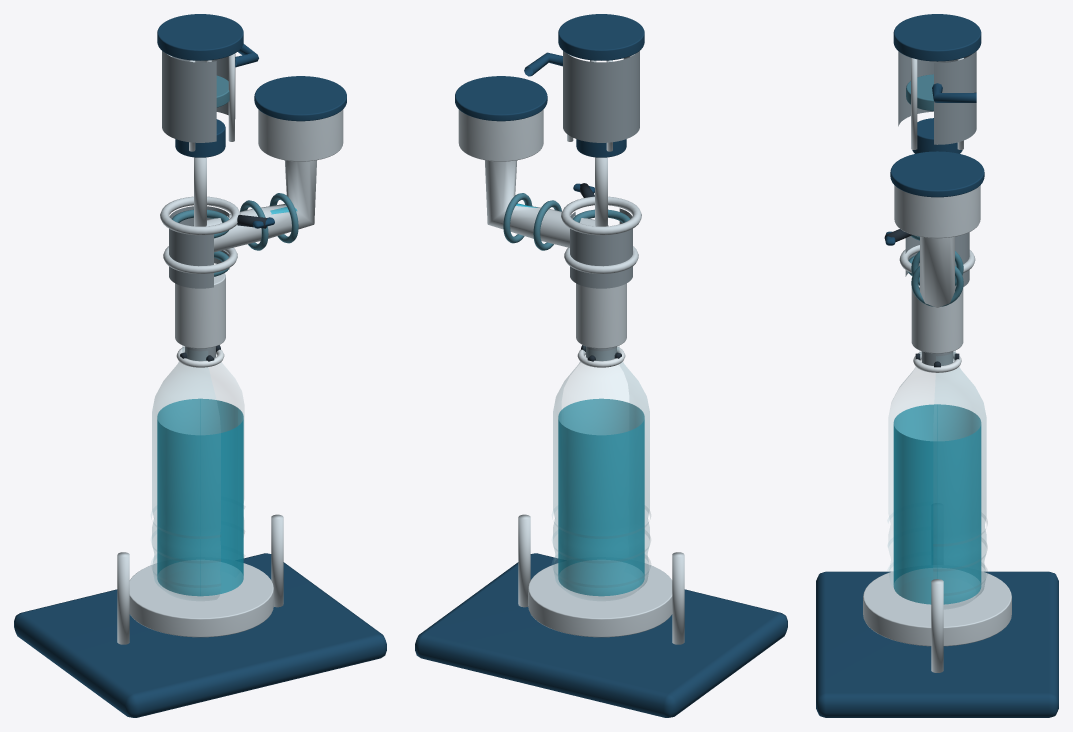
File: filler-detail.glb
3 renders of one model, left to right at view 1: azimuth 30°, elevation 25°; view 2: azimuth 150°, elevation 25°; view 3: azimuth 270°, elevation 25°, orthographic.
Parts seen in each view (by area): view 1: Principle display base, Visible liquid volume, Rotor_PET and safety glazing, Rotor_Polished sanitary steel.001, Rotor_Polished sanitary steel, Actuator cutaway body, Rotor_Deep blue powder coating, Rotor_Polished sanitary steel.002, Supply chamber lid, Rotor_Brushed stainless steel, Rotor_Polished sanitary steel.003, Tri-clamp segmented coupling (+1 smaller); view 2: Principle display base, Rotor_PET and safety glazing, Visible liquid volume, Rotor_Polished sanitary steel.001, Rotor_Polished sanitary steel, Actuator cutaway body, Rotor_Deep blue powder coating, Rotor_Polished sanitary steel.002, Supply chamber lid, Rotor_Brushed stainless steel, Tri-clamp segmented coupling, Rotor_Food-contact seal.001 (+1 smaller); view 3: Principle display base, Visible liquid volume, Rotor_PET and safety glazing, Rotor_Polished sanitary steel.001, Rotor_Polished sanitary steel, Rotor_Deep blue powder coating, Actuator cutaway body, Supply chamber lid, Rotor_Polished sanitary steel.002, Rotor_Brushed stainless steel, Rotor_Food-contact seal.001, Rotor_Polished sanitary steel.003 (+2 smaller).
Part boxes in pixels (box(x1,y1,x2,y2)): Principle display base: box(14, 553, 386, 717); Visible liquid volume: box(157, 398, 243, 596); Rotor_PET and safety glazing: box(151, 346, 244, 600); Rotor_Polished sanitary steel.001: box(117, 514, 283, 644); Rotor_Polished sanitary steel: box(193, 109, 343, 252); Actuator cutaway body: box(162, 51, 235, 142); Rotor_Deep blue powder coating: box(157, 14, 258, 157); Rotor_Polished sanitary steel.002: box(163, 246, 237, 348); Supply chamber lid: box(254, 76, 346, 121); Rotor_Brushed stainless steel: box(169, 206, 229, 361); Rotor_Polished sanitary steel.003: box(167, 53, 234, 226); Tri-clamp segmented coupling: box(160, 196, 240, 235); Principle display base: box(415, 553, 787, 717); Rotor_PET and safety glazing: box(552, 346, 650, 600); Visible liquid volume: box(558, 398, 644, 596); Rotor_Polished sanitary steel.001: box(518, 514, 684, 644); Rotor_Polished sanitary steel: box(458, 109, 608, 247); Actuator cutaway body: box(563, 51, 639, 142); Rotor_Deep blue powder coating: box(524, 14, 644, 157); Rotor_Polished sanitary steel.002: box(564, 246, 638, 348); Supply chamber lid: box(455, 76, 547, 121); Rotor_Brushed stainless steel: box(570, 208, 632, 361); Tri-clamp segmented coupling: box(561, 196, 641, 235); Rotor_Food-contact seal.001: box(503, 193, 561, 250); Principle display base: box(816, 571, 1058, 717); Visible liquid volume: box(893, 404, 981, 604); Rotor_PET and safety glazing: box(888, 350, 987, 608); Rotor_Polished sanitary steel.001: box(863, 568, 1011, 672); Rotor_Polished sanitary steel: box(894, 185, 980, 307); Rotor_Deep blue powder coating: box(893, 14, 981, 153); Actuator cutaway body: box(898, 51, 976, 144); Supply chamber lid: box(890, 151, 984, 197); Rotor_Polished sanitary steel.002: box(899, 245, 975, 353); Rotor_Brushed stainless steel: box(905, 232, 969, 365); Rotor_Food-contact seal.001: box(911, 251, 963, 306); Rotor_Polished sanitary steel.003: box(911, 58, 963, 149).
Bounding box in the file's own units: 0.81 × 1.76 × 0.62.
